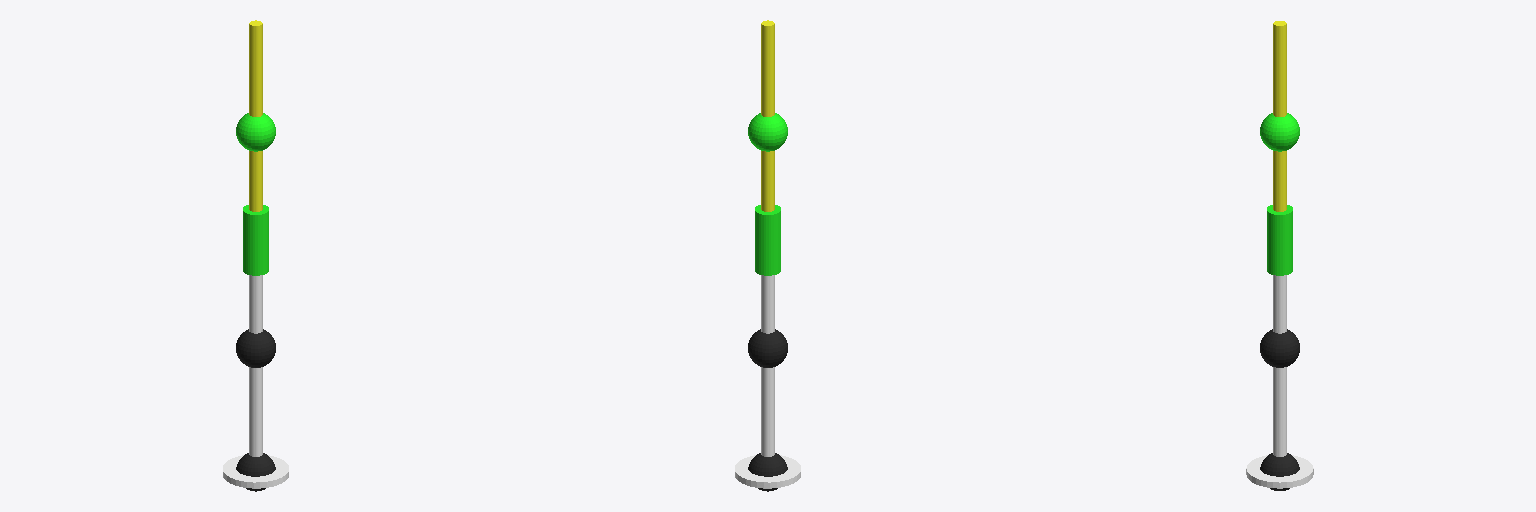
robot.urdf — arm:
<?xml version="1.0"?>
<robot name="arm">

  <!--Links-->
  <link name="base_link">
    <visual>
      <geometry>
        <cylinder length="0.01" radius="0.05"/>
      </geometry>
      <material name="white">
        <color rgba="1 1 1 1"/>
      </material>
    </visual>
  </link>

  <link name="joint_1">
    <visual>
      <geometry>
       <sphere radius="0.03"/>
      </geometry>
      <material name="gray">
        <color rgba="0.2 0.2 0.2 1"/>
      </material>
        <origin xyz="0 0 0" rpy = "0 0 0"/>
    </visual>
  </link>

  <link name="joint_2">
    <visual>
      <geometry>
       <sphere radius="0.03"/>
      </geometry>
      <material name="gray">
        <color rgba="0.2 0.2 0.2 1"/>
      </material>
      <origin xyz="0 0 0" rpy = "0 0 0"/>
    </visual>
  </link>

  <link name="joint_3">
      <visual>
        <geometry>
         <cylinder length="0.1" radius = "0.02"/>
        </geometry>
        <material name="gray">
          <color rgba="0.2 1 0.2 1"/>
        </material>
        <origin xyz="0 0 0" rpy = "0 0 0"/>
      </visual>
    </link>


  <link name="joint_4">
      <visual>
        <geometry>
         <sphere radius="0.03"/>
        </geometry>
        <material name="gray">
          <color rgba="0.2 1 0.2 1"/>
        </material>
        <origin xyz="0 0 0" rpy = "0 0 0"/>
      </visual>
    </link>

    <link name="link4">
             <visual>
              <geometry>
                <cylinder length="0.178" radius = "0.01"/>
              </geometry>
              <material name="white">
                <color rgba="1 1 0.2 1"/>
              </material>
              <origin xyz="0 0 0" rpy = "0 0 0"/>
            </visual>
          </link>

    <link name="link3">
         <visual>
          <geometry>
            <cylinder length="0.178" radius = "0.01"/>
          </geometry>
          <material name="white">
            <color rgba="1 1 0.2 1"/>
          </material>
          <origin xyz="0 0 0" rpy = "0 0 0"/>
        </visual>
      </link>

  <link name="link2">
     <visual>
      <geometry>
        <cylinder length="0.220" radius = "0.01"/>
      </geometry>
      <material name="white">
        <color rgba="1 1 1 1"/>
      </material>
      <origin xyz="0 0 0" rpy = "0 0 0"/>
    </visual>
  </link>

  <link name="link1">
    <visual>
      <geometry>
        <cylinder length="0.203" radius = "0.01"/>
      </geometry>
      <material name="white">
        <color rgba="1 1 1 1"/>
      </material>
      <origin xyz="0 0 0" rpy = "0 0 0"/>
    </visual>
  </link>

  <link name="tool0"/>


  <!--Joints-->
  <joint name="joint_1" type="revolute">
    <axis xyz="0 0 1"/>
    <parent link="base_link"/>
    <child link="joint_1"/>
    <origin xyz="0 0 0" rpy = "0 0 0"/>
    <limit effort="1000.0" lower="-1.62" upper="1.62" velocity="0.5"/>
  </joint>

  <joint name="joint_2" type="revolute">
    <axis xyz="0 1 0"/>
    <parent link="joint_1"/>
    <child link="joint_2"/>
    <origin xyz="0 0 0.203" rpy = "0 0 0"/>
    <limit effort="1000.0" lower="-0.96" upper="2.182" velocity="0.5"/>
  </joint>

  <joint name="joint_3" type="prismatic">
        <axis xyz="0 0 1"/>
        <parent link="joint_2"/>
        <child link="joint_3"/>
        <origin xyz="0 0 0.178" rpy = "0 0 0"/>
        <limit effort="1000.0" lower="-0.1" upper="0.06" velocity="0.5"/>
      </joint>

  <joint name="joint_4" type="revolute">
      <axis xyz="0 1 0"/>
      <parent link="joint_3"/>
      <child link="joint_4"/>
      <origin xyz="0 0 0.178" rpy = "0 0 0"/>
      <limit effort="1000.0" lower="-0.96" upper="2.182" velocity="0.5"/>
    </joint>

     <joint name="link4_to_joint_4" type="fixed">
       <parent link="joint_4"/>
       <child link="link4"/>
       <origin xyz="0 0 0.089" rpy = "0 0 0"/>
     </joint>

   <joint name="link3_to_joint_3" type="fixed">
       <parent link="joint_3"/>
       <child link="link3"/>
       <origin xyz="0 0 0.089" rpy = "0 0 0"/>
     </joint>

  <joint name="link2_to_joint_2" type="fixed">
    <parent link="joint_2"/>
    <child link="link2"/>
    <origin xyz="0 0 0.089" rpy = "0 0 0"/>
  </joint>

  <joint name="link1_to_joint_1" type="fixed">
    <parent link="joint_1"/>
    <child link="link1"/>
    <origin xyz="0 0 0.1015" rpy = "0 0 0"/>
  </joint>



  <joint name="joint_4_to_tool0" type="fixed">
    <parent link="joint_4"/>
    <child link="tool0"/>
    <origin xyz="0 0 0.178" rpy = "0 0 0"/>
  </joint>

</robot>

--- Render facts (derived) ---
Views: 3 orthographic renders of the robot side by side, from view 1: azimuth 30°, elevation 25°; view 2: azimuth 150°, elevation 25°; view 3: azimuth 270°, elevation 25°.
Model arm with 10 links and 9 joints (3 revolute, 1 prismatic, 5 fixed), rooted at base_link, posed all joints at 0.
Links seen in each view (by area): view 1: joint_3, link4, link1, joint_2, joint_4, base_link, link3, link2, joint_1; view 2: joint_3, link4, link1, joint_2, joint_4, base_link, link3, link2, joint_1; view 3: joint_3, link4, link1, joint_2, joint_4, base_link, link3, link2, joint_1.
Boxes of the visible links, bbox=[...] form: joint_3: bbox=[243, 205, 268, 275]; link4: bbox=[249, 20, 262, 116]; link1: bbox=[249, 367, 262, 456]; joint_2: bbox=[236, 329, 275, 367]; joint_4: bbox=[236, 113, 275, 151]; base_link: bbox=[223, 455, 288, 488]; link3: bbox=[249, 151, 262, 211]; link2: bbox=[249, 275, 262, 333]; joint_1: bbox=[236, 453, 275, 491]; joint_3: bbox=[755, 205, 780, 275]; link4: bbox=[761, 20, 774, 116]; link1: bbox=[761, 367, 774, 456]; joint_2: bbox=[748, 329, 787, 367]; joint_4: bbox=[748, 113, 787, 151]; base_link: bbox=[735, 455, 800, 488]; link3: bbox=[761, 151, 774, 211]; link2: bbox=[761, 275, 774, 333]; joint_1: bbox=[748, 453, 787, 491]; joint_3: bbox=[1267, 205, 1292, 275]; link4: bbox=[1273, 21, 1286, 116]; link1: bbox=[1273, 367, 1286, 456]; joint_2: bbox=[1260, 329, 1299, 367]; joint_4: bbox=[1260, 113, 1299, 151]; base_link: bbox=[1246, 455, 1313, 488]; link3: bbox=[1273, 151, 1286, 211]; link2: bbox=[1273, 275, 1286, 333]; joint_1: bbox=[1260, 453, 1299, 490].
Size in the robot's own frame: 0.1 by 0.1 by 0.767 metres.
Geometry: primitives only (box / cylinder / sphere), no mesh files.
